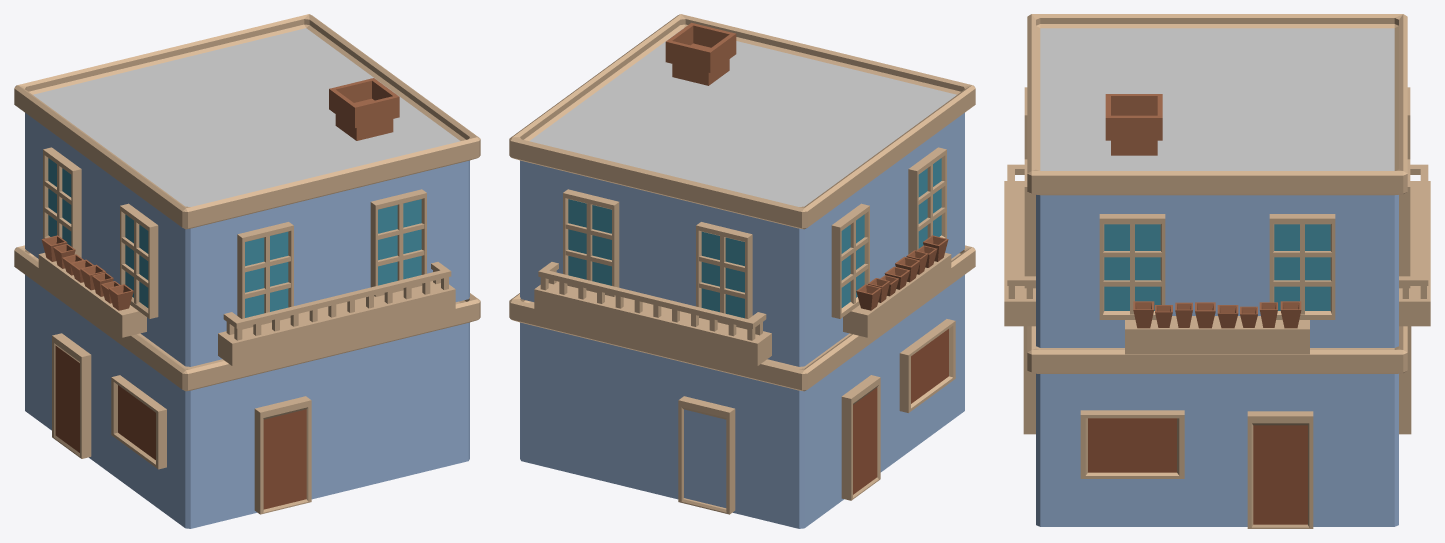
Rendered from casita3_uvs.fbx.
The picture shows the model from 3 angles, left to right: view 1: azimuth 30°, elevation 25°; view 2: azimuth 150°, elevation 25°; view 3: azimuth 270°, elevation 25°; orthographic projection. The views are drawn at different scales.
Parts seen in each view (by area): view 1: casa1_merged.001; view 2: casa1_merged.001; view 3: casa1_merged.001.
Boxes of the visible parts, box(x1,y1,x2,y2) form: casa1_merged.001: box(14, 14, 480, 528); casa1_merged.001: box(509, 14, 975, 528); casa1_merged.001: box(1004, 14, 1430, 528).
Bounding box in the file's own units: 839 × 836 × 835.
